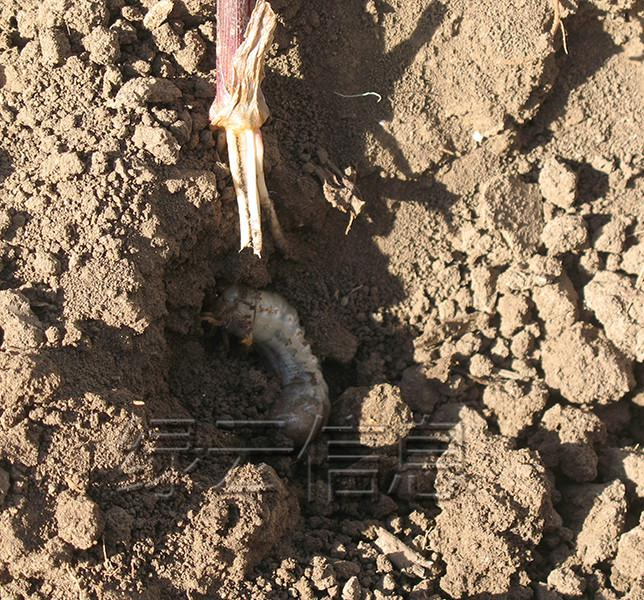grub: (203, 270, 331, 438)
